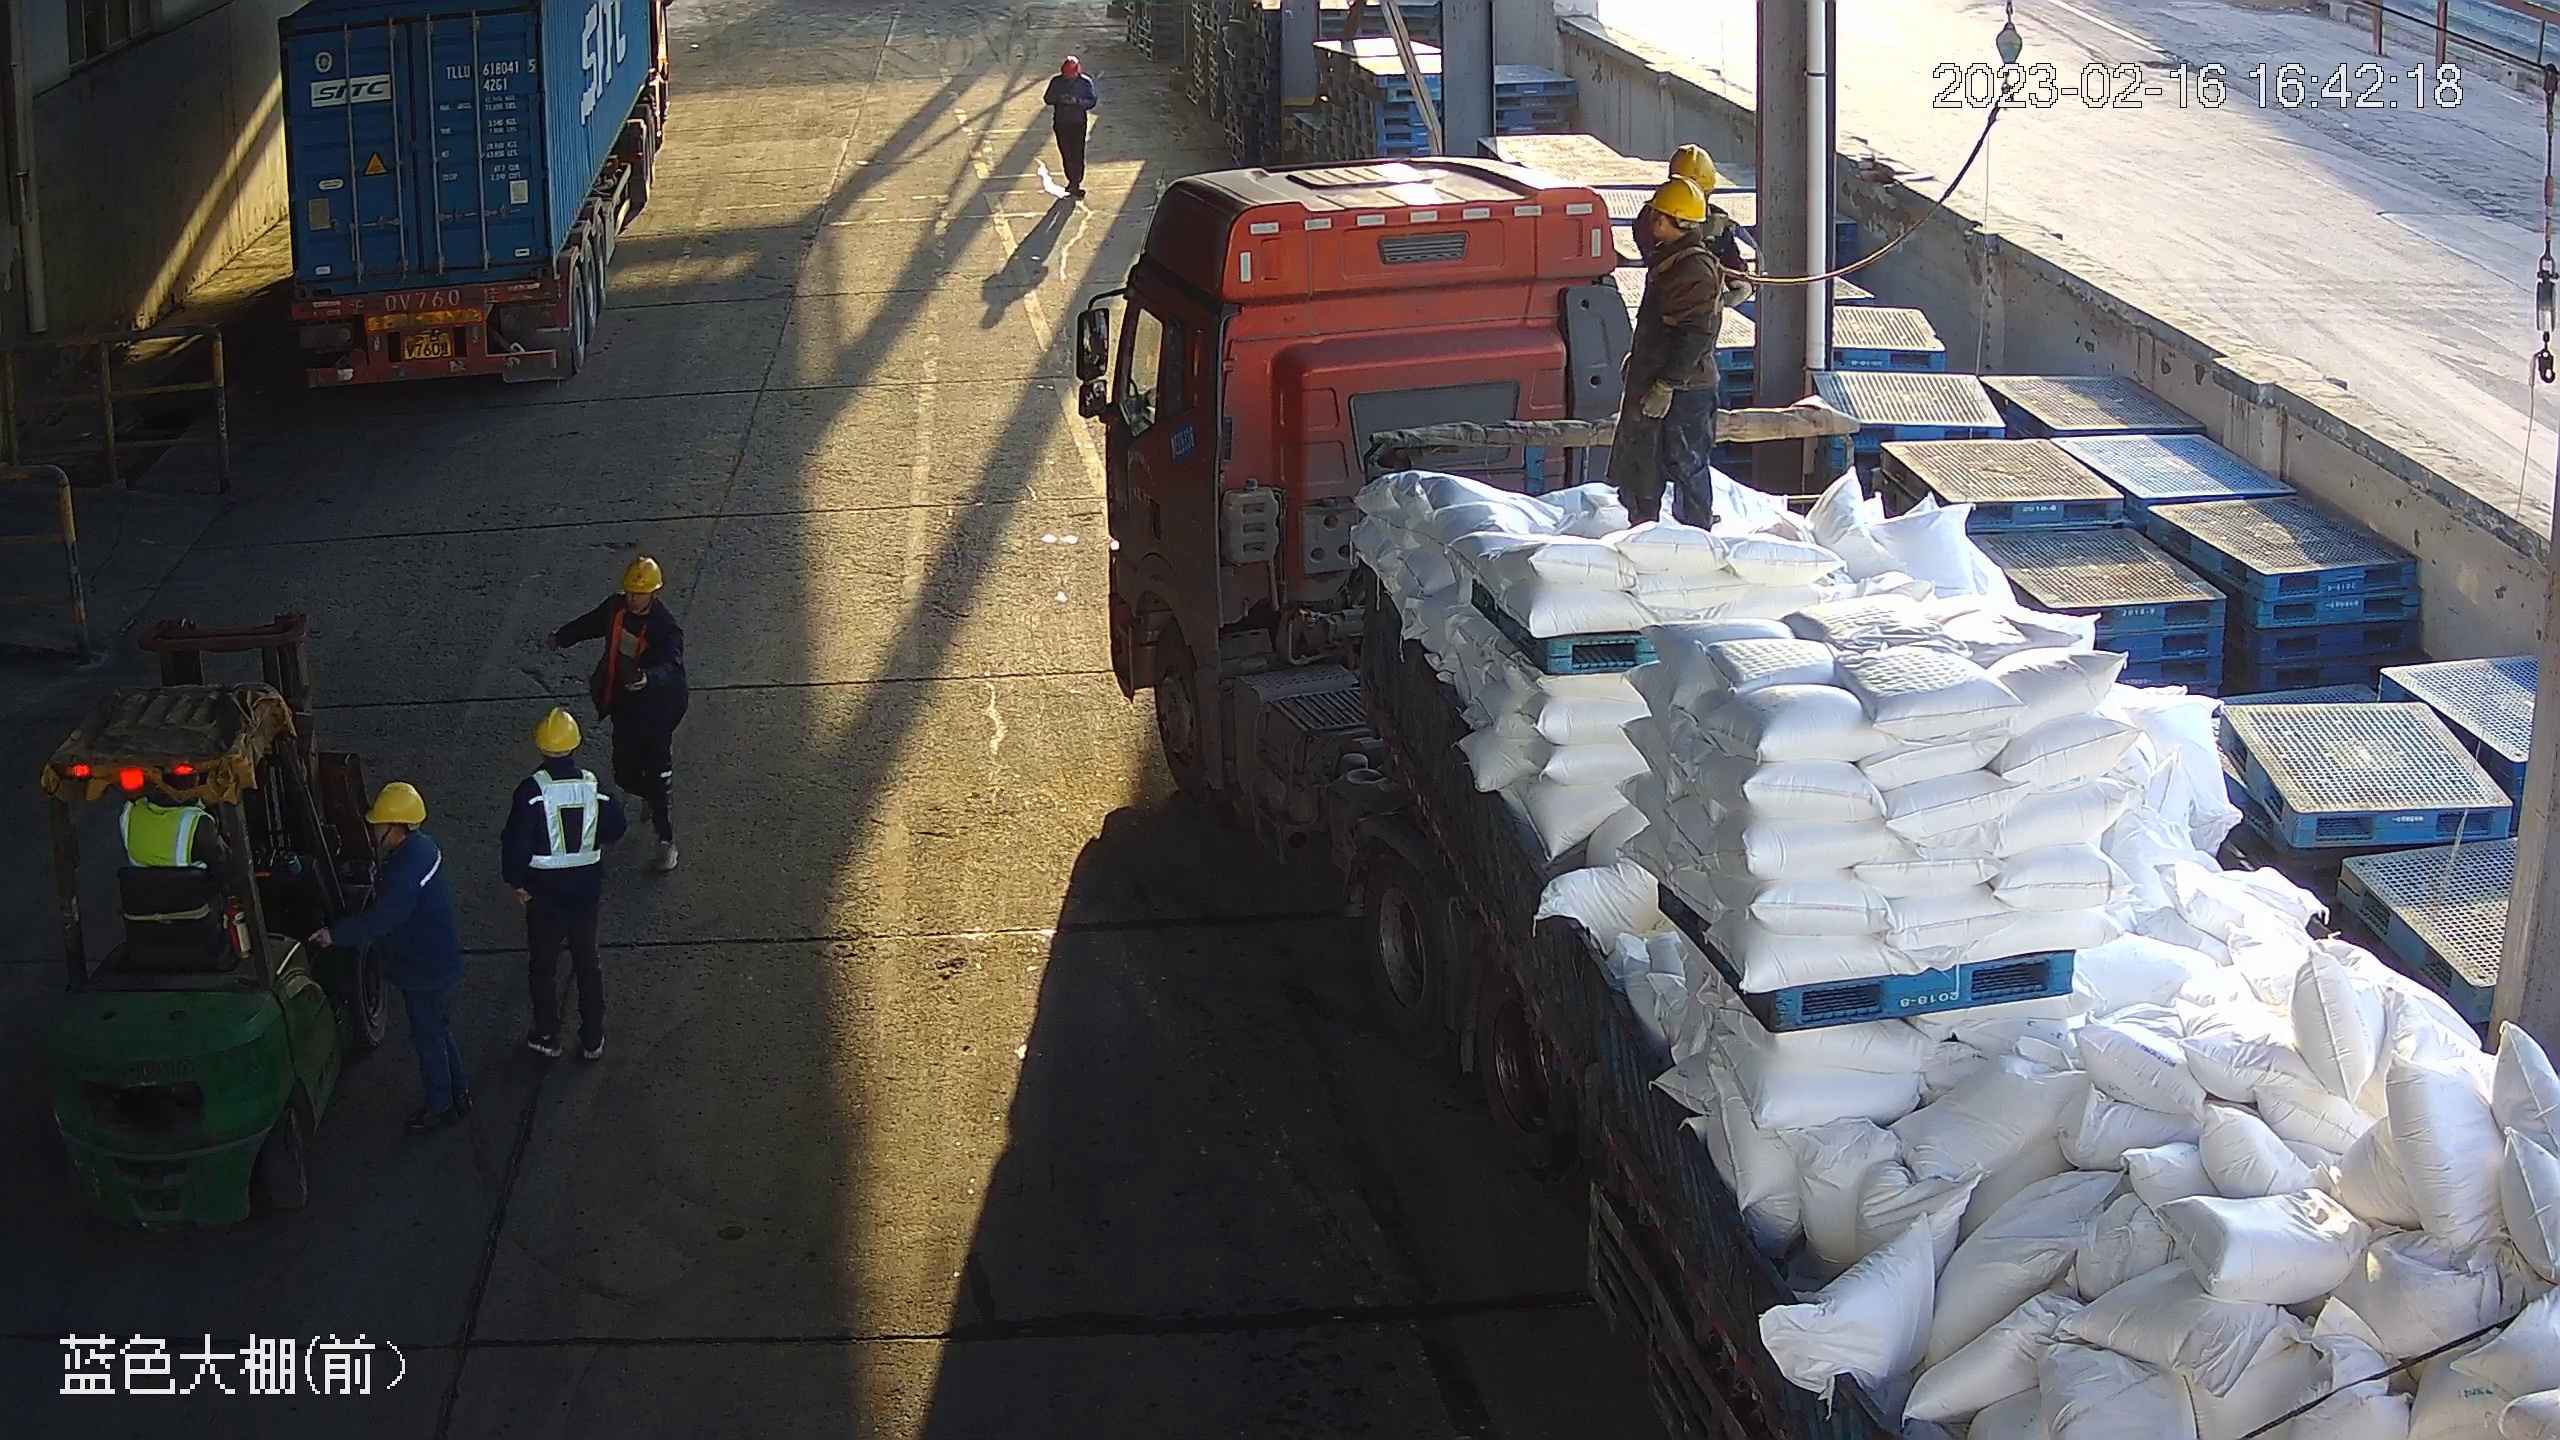belt: (1646, 242, 1757, 327)
head: (321, 780, 451, 894), (509, 706, 609, 822), (1637, 178, 1722, 292), (580, 557, 674, 639)
helmet: (362, 780, 426, 828), (1642, 181, 1706, 223), (1669, 142, 1717, 193), (534, 708, 581, 755), (625, 554, 662, 594), (1059, 57, 1077, 75)
people: (311, 781, 475, 1136), (546, 555, 691, 873), (502, 707, 630, 1063), (1612, 179, 1725, 530), (1043, 54, 1098, 199)
truck: (1070, 139, 2560, 1440), (267, 11, 675, 395)
